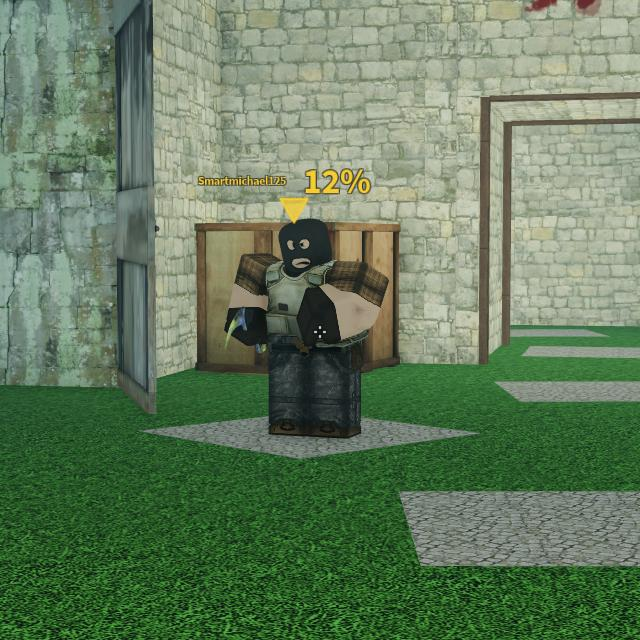Head: (280, 219, 332, 269)
Player: (227, 218, 389, 441)
